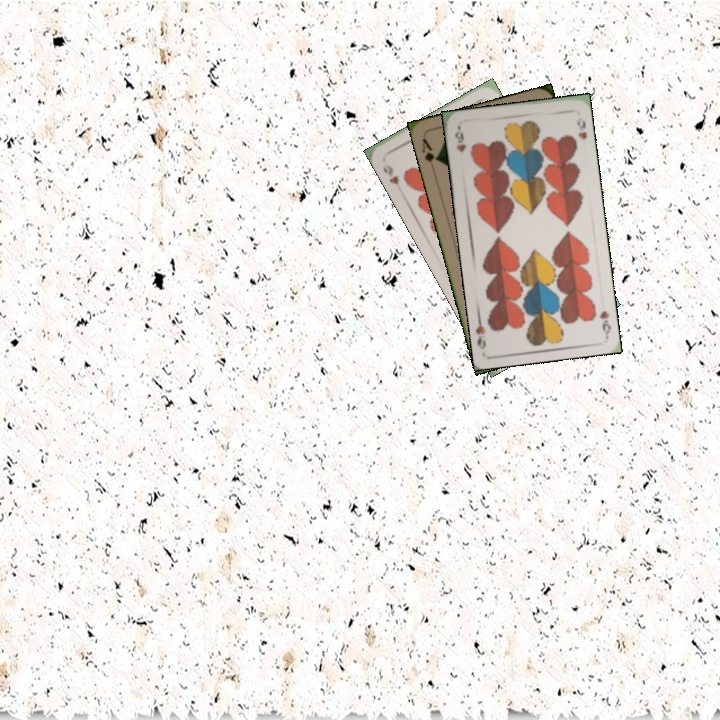GA: (418, 134, 441, 165)
H9: (379, 161, 402, 188), (595, 307, 613, 337), (451, 125, 469, 154)
